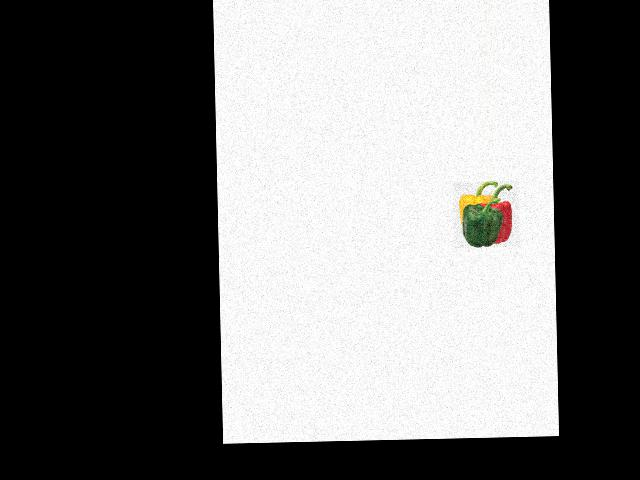bell_pepper: (481, 182, 520, 245)
